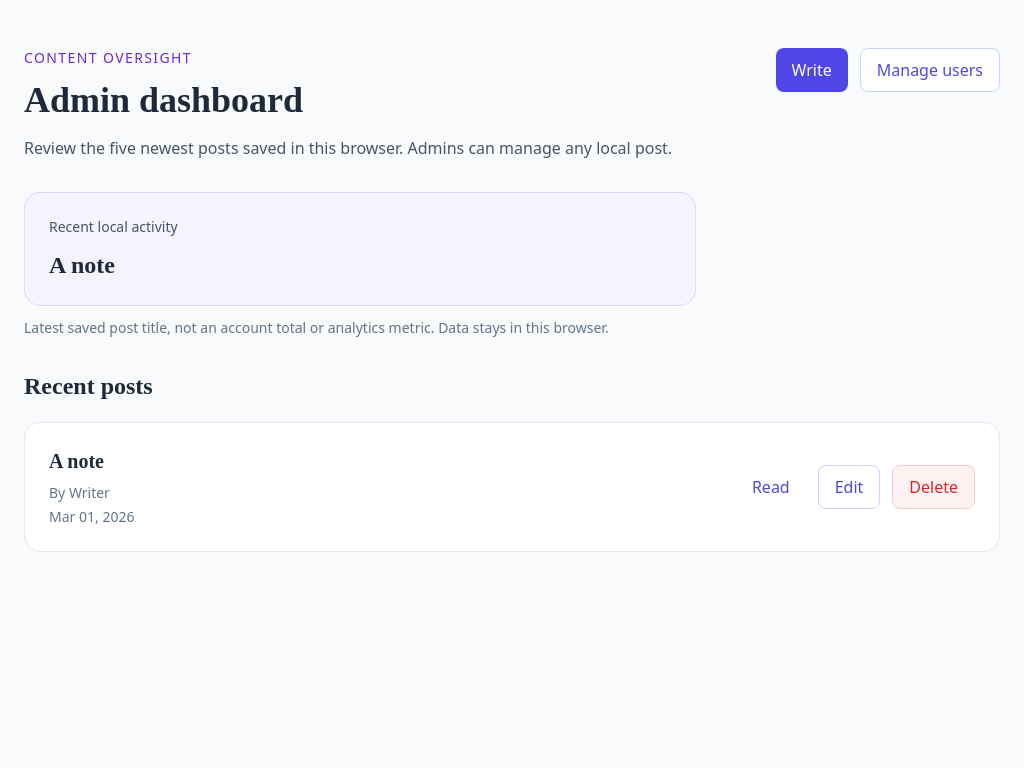
Test: denies stale permission guest even when the new user owns the post
The image size is (1024, 768).
Click the button with aria-label "Delete A note" at (934, 487), box left=892, top=465, right=975, bottom=509
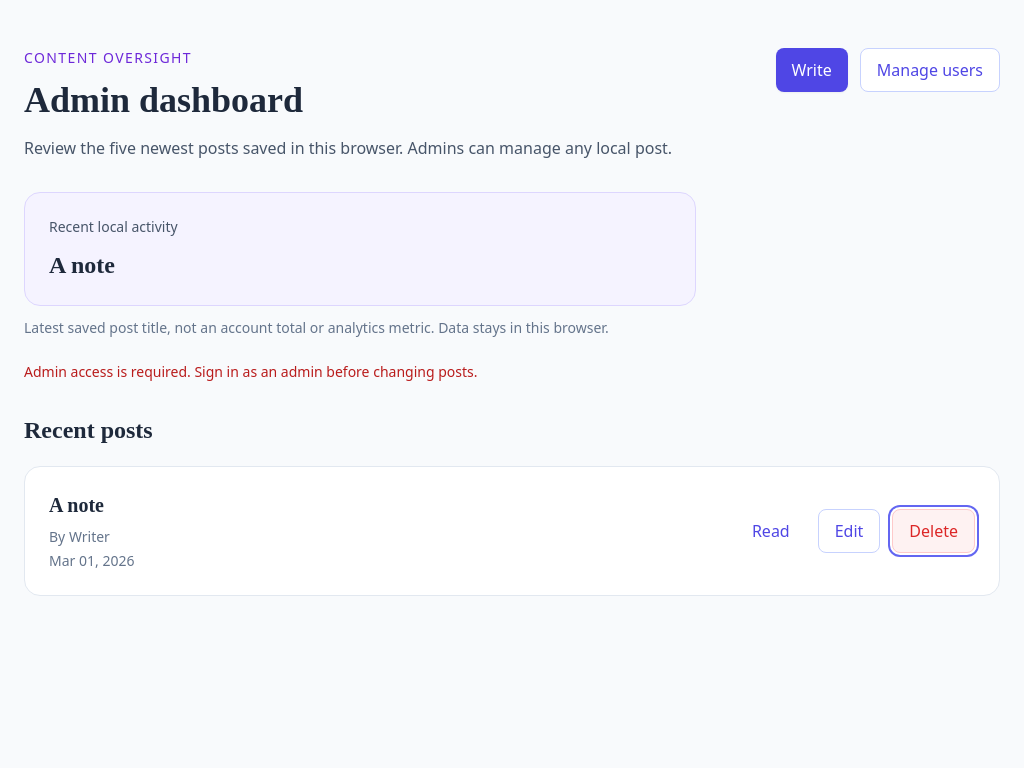
Expected: the element "A note" is shown, left=49, top=491, right=975, bottom=571
Result: the message shows "Admin access is required" at left=24, top=362, right=478, bottom=381
